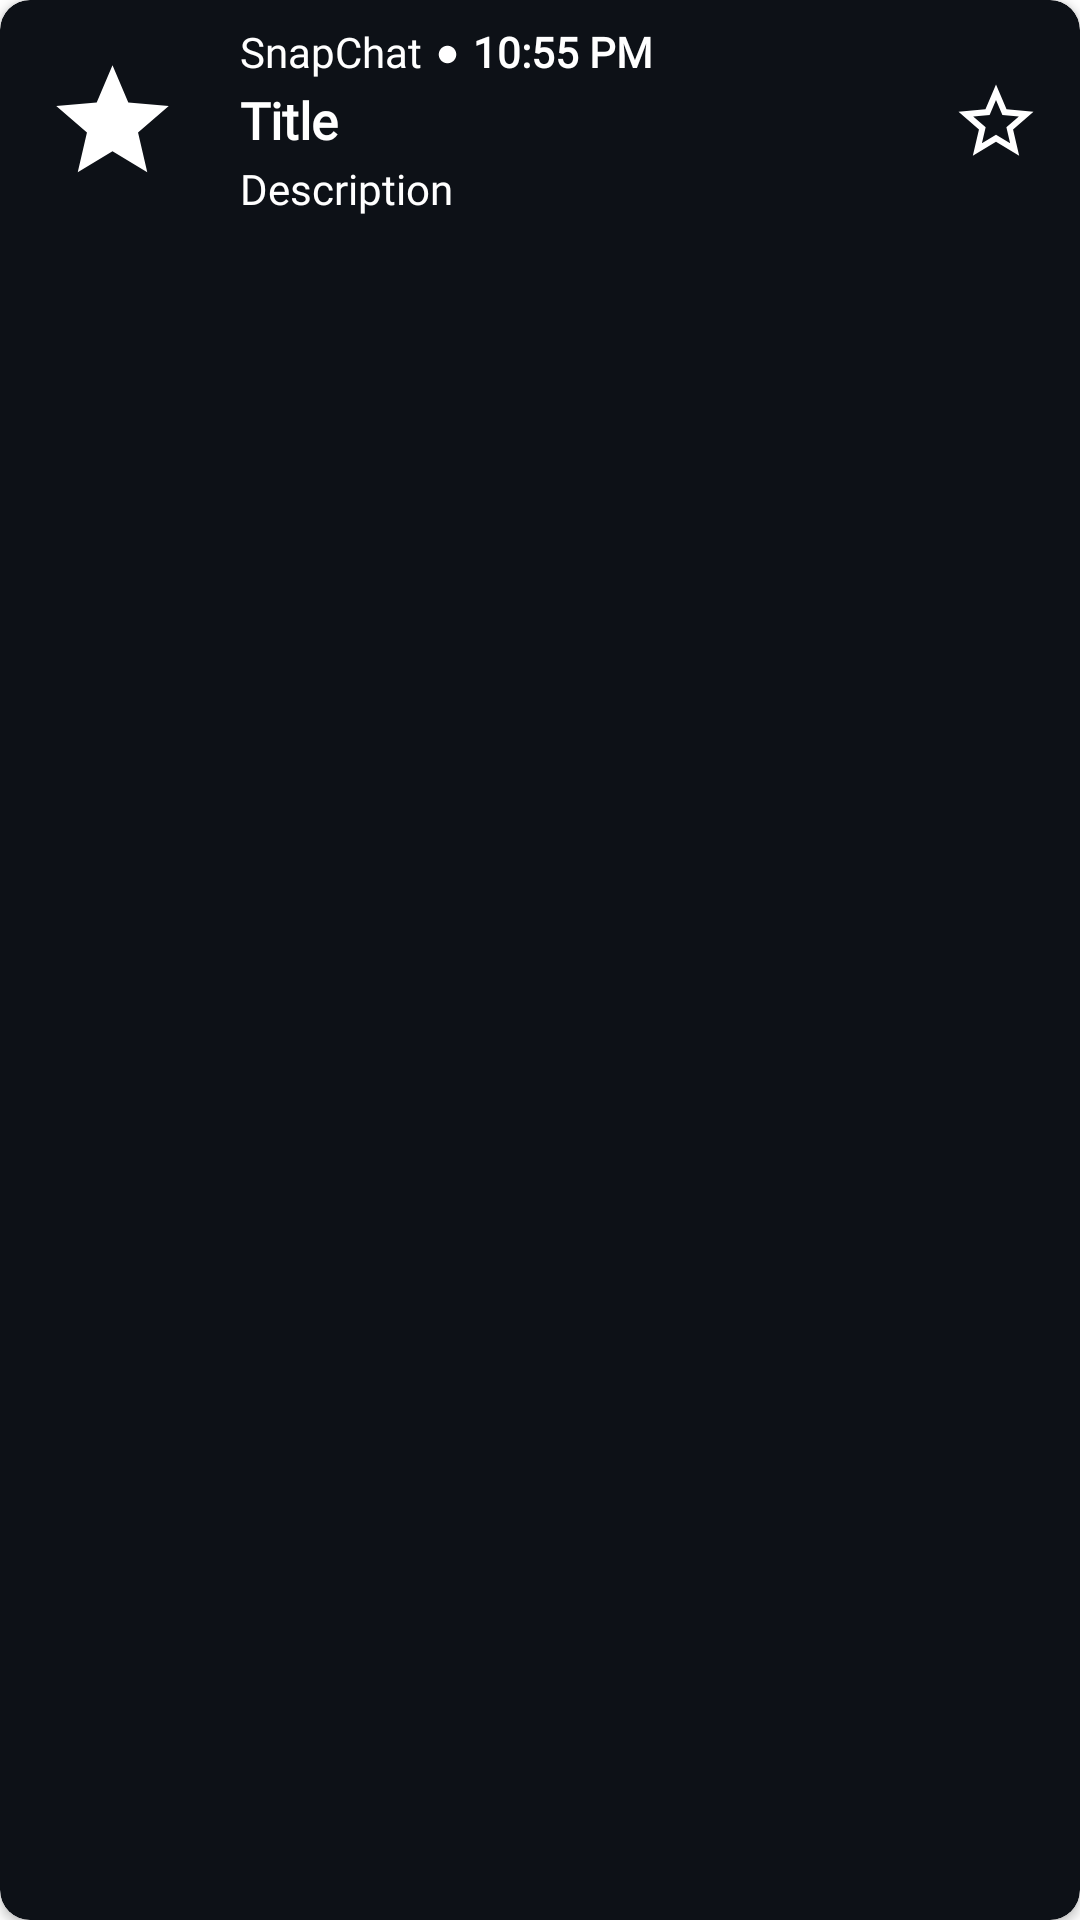

Where to tap for icons on this 1080px×1920px app screen, as point (x, y):
star: point (112, 118)
unstar: point (996, 120)
